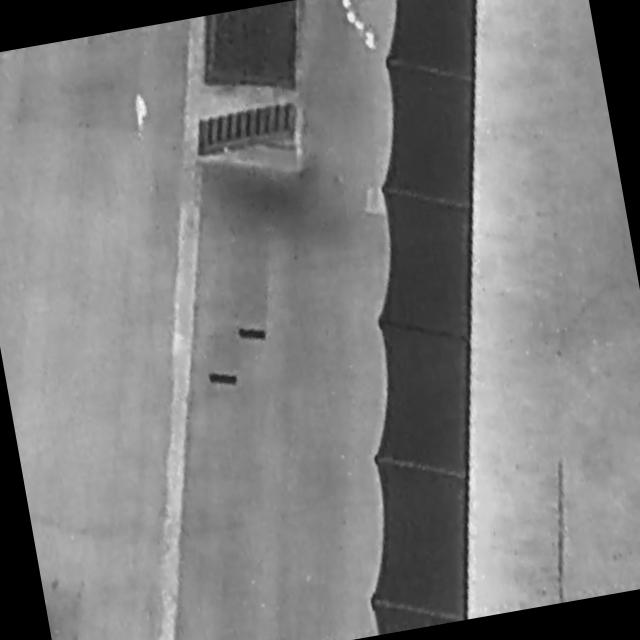person: (132, 92, 153, 132)
